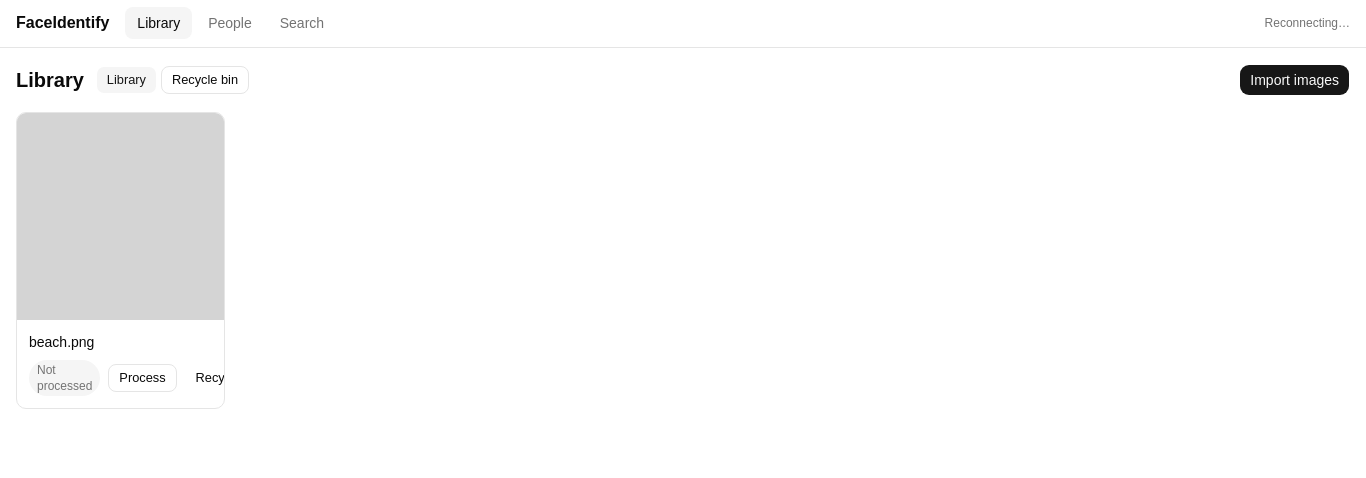
importing › says why an image could not be recycled, and leaves it where it is
Click the button with aria-label "Move beach.png to the recycle bin" at (218, 378), box x1=185 y1=364 x2=252 y2=392
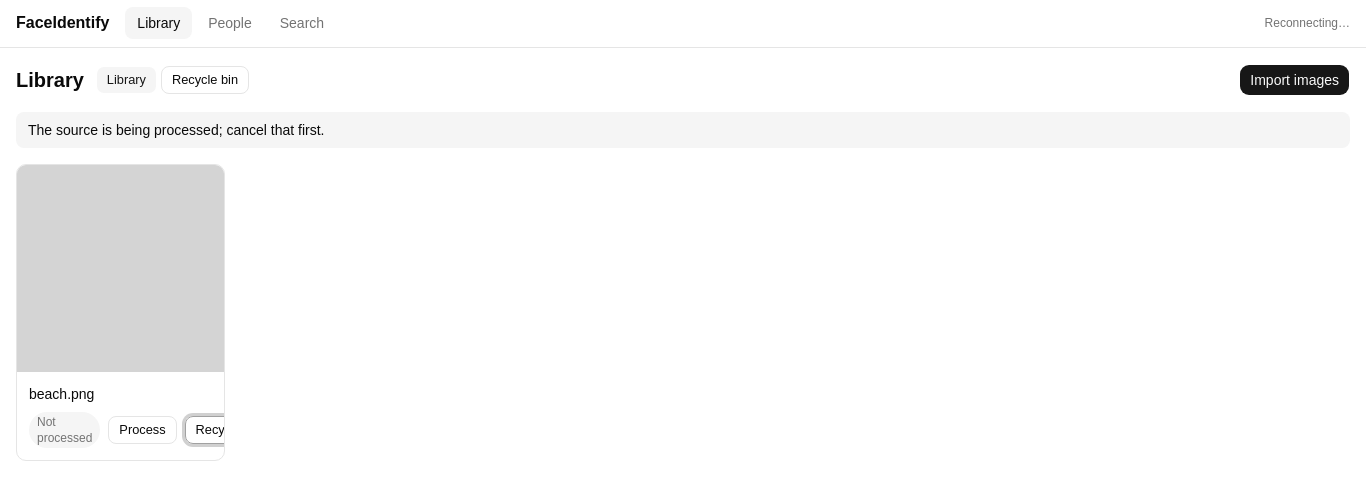
Result: the message named "Library notice" shows "being processed" at x1=28 y1=122 x2=324 y2=138
